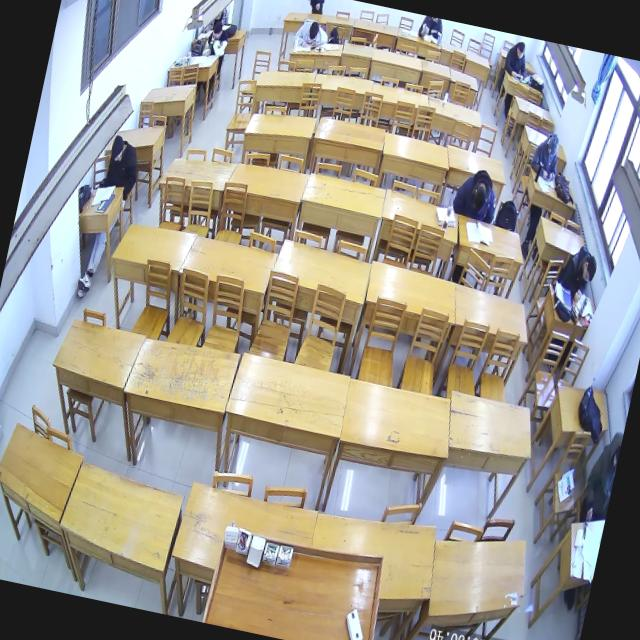bow: (290, 16, 332, 54)
down: (579, 252, 599, 286), (469, 182, 490, 214), (108, 132, 127, 164), (544, 130, 562, 160), (305, 18, 322, 42), (208, 18, 224, 42), (513, 40, 528, 61)
sit: (449, 162, 503, 225), (554, 239, 601, 306), (100, 130, 144, 196), (526, 127, 566, 184), (500, 38, 532, 84), (200, 18, 232, 62)
